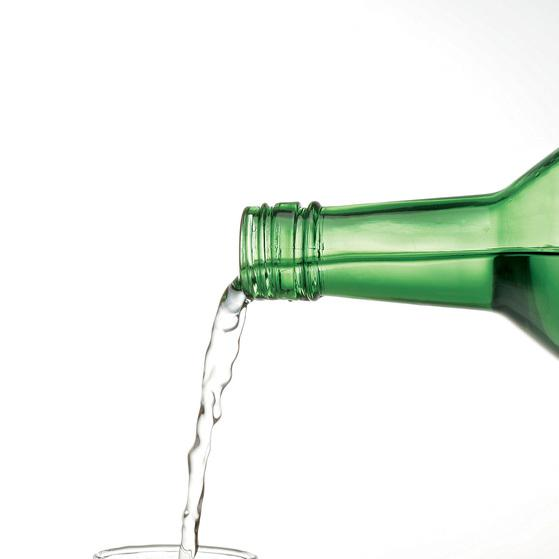soju: (230, 139, 559, 368)
